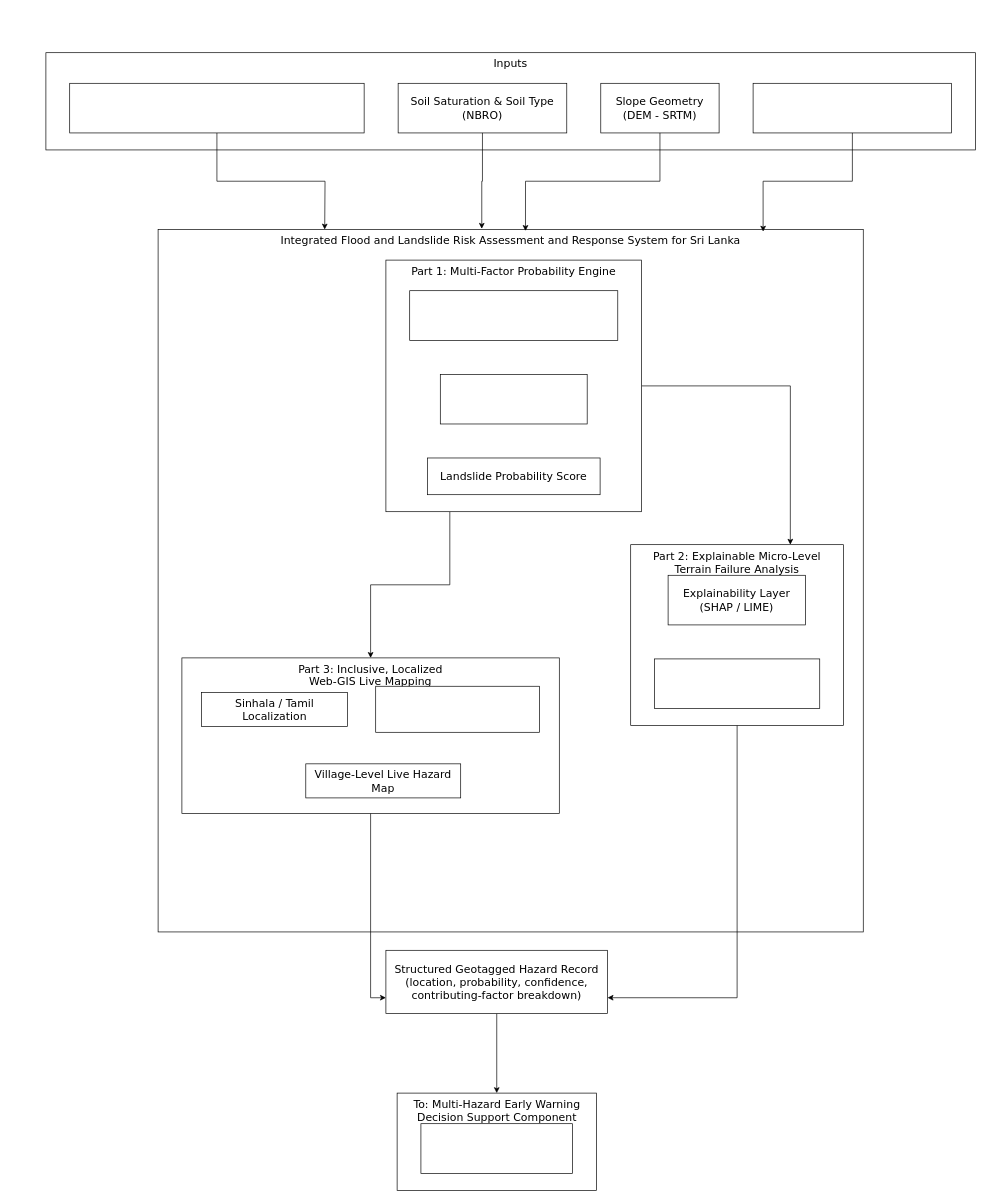
This 987x1202 diagram has some shape labels left out. The centre of each missing label's shape, as x and y in pixels:
Accessible UI (High-contrast, elderly-friendly): (x=457, y=709)
Environmental vs. Human Cause Breakdown (%): (x=737, y=683)
Feature Fusion (Rainfall + Slope + Soil Saturation): (x=513, y=315)
Human Factors (Road cuts, deforestation, drainage - OSM / Census): (x=216, y=108)
Joint Hazard Scoring & Priority-Based Alerting: (x=496, y=1148)
ML Classifier (XGBoost / LightGBM): (x=513, y=399)
Rainfall Intensity & Duration (CHIRPS / Dept. of Meteorology): (x=852, y=108)
